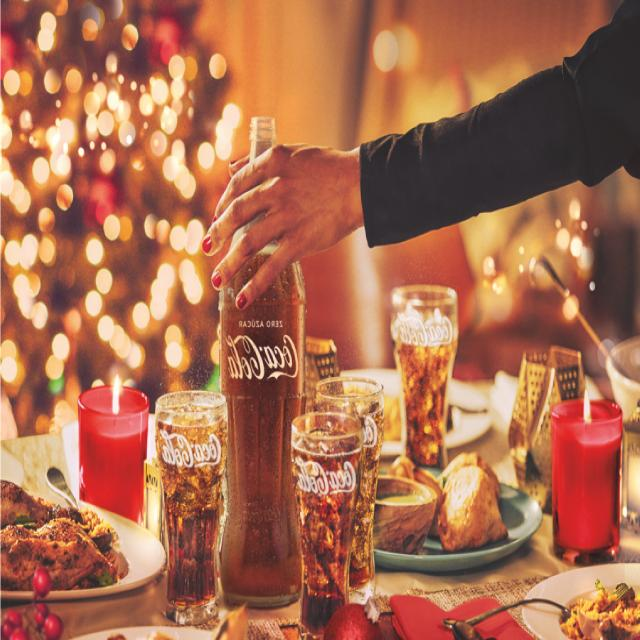coca cola: (222, 325, 303, 387), (294, 454, 357, 498), (158, 430, 222, 470)
